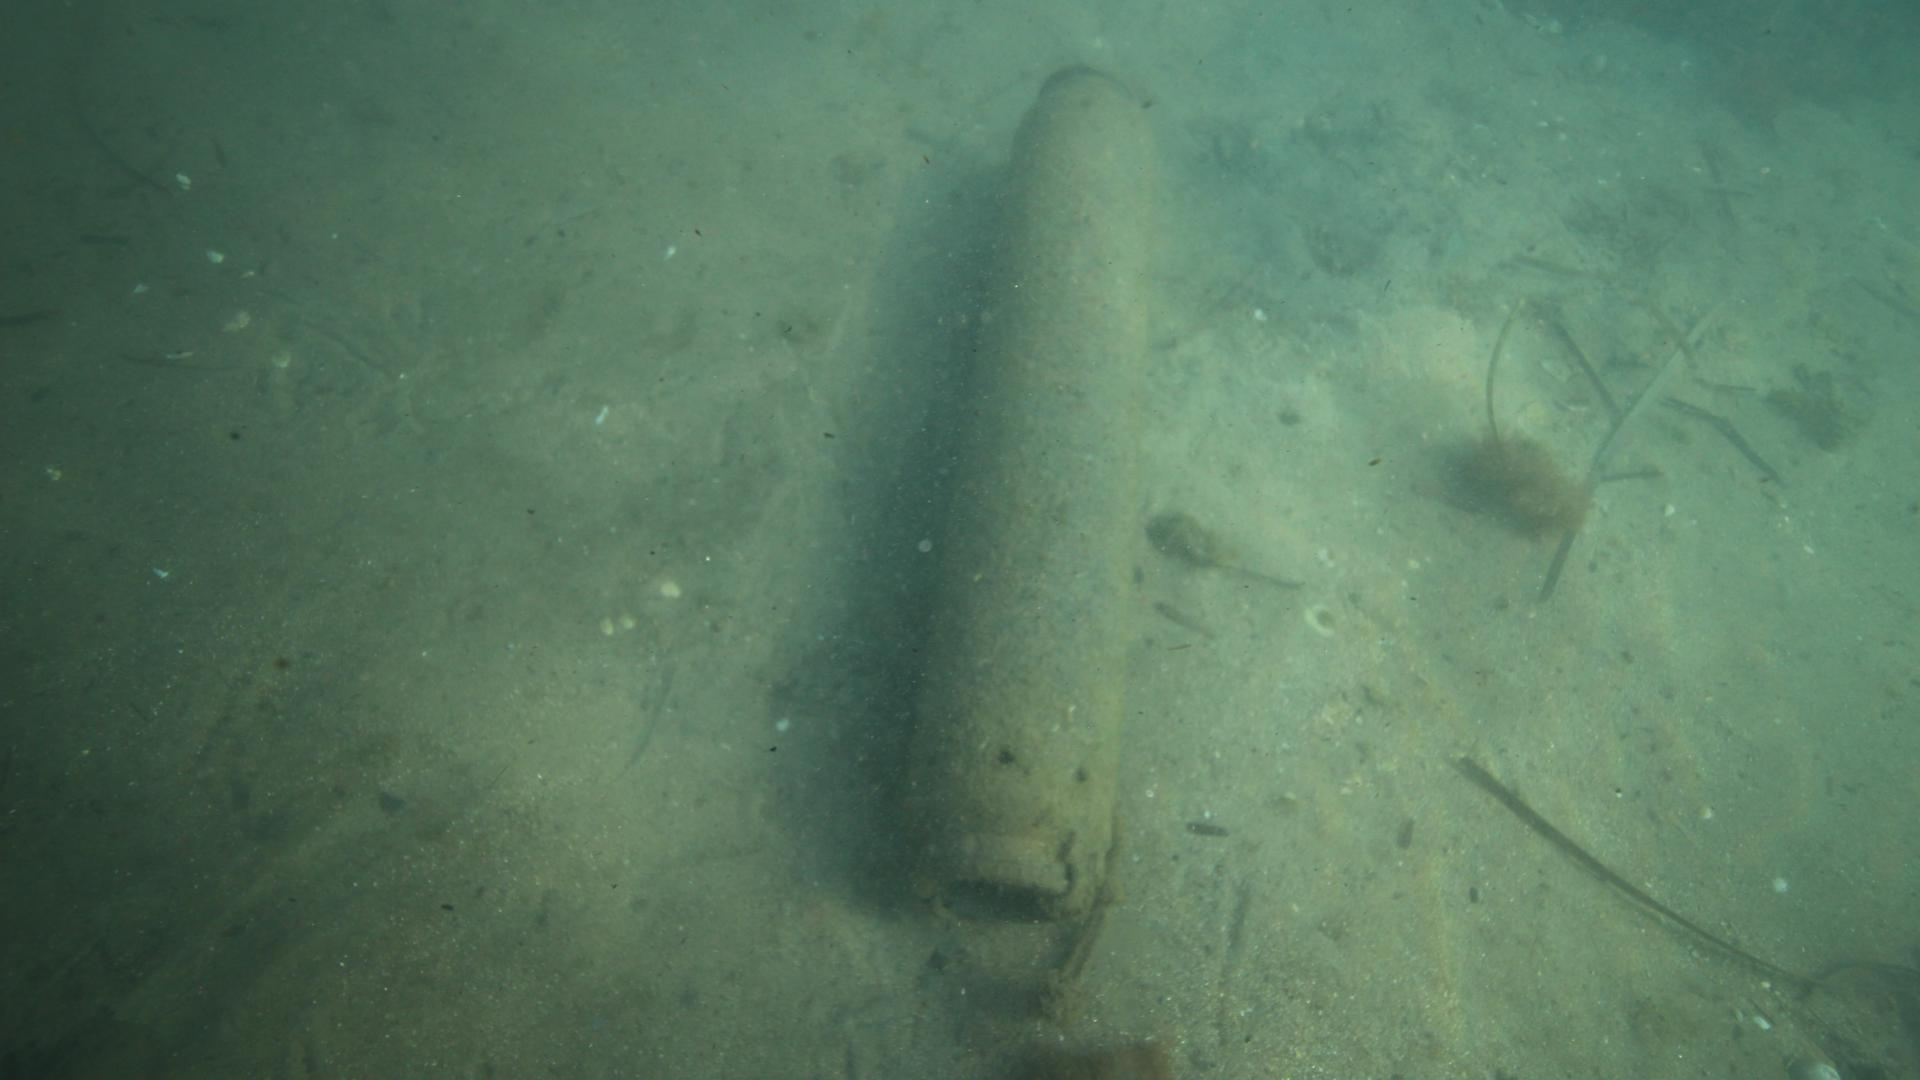eel fish trap: (895, 65, 1162, 943)
